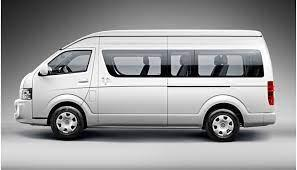van: (8, 27, 283, 149)
